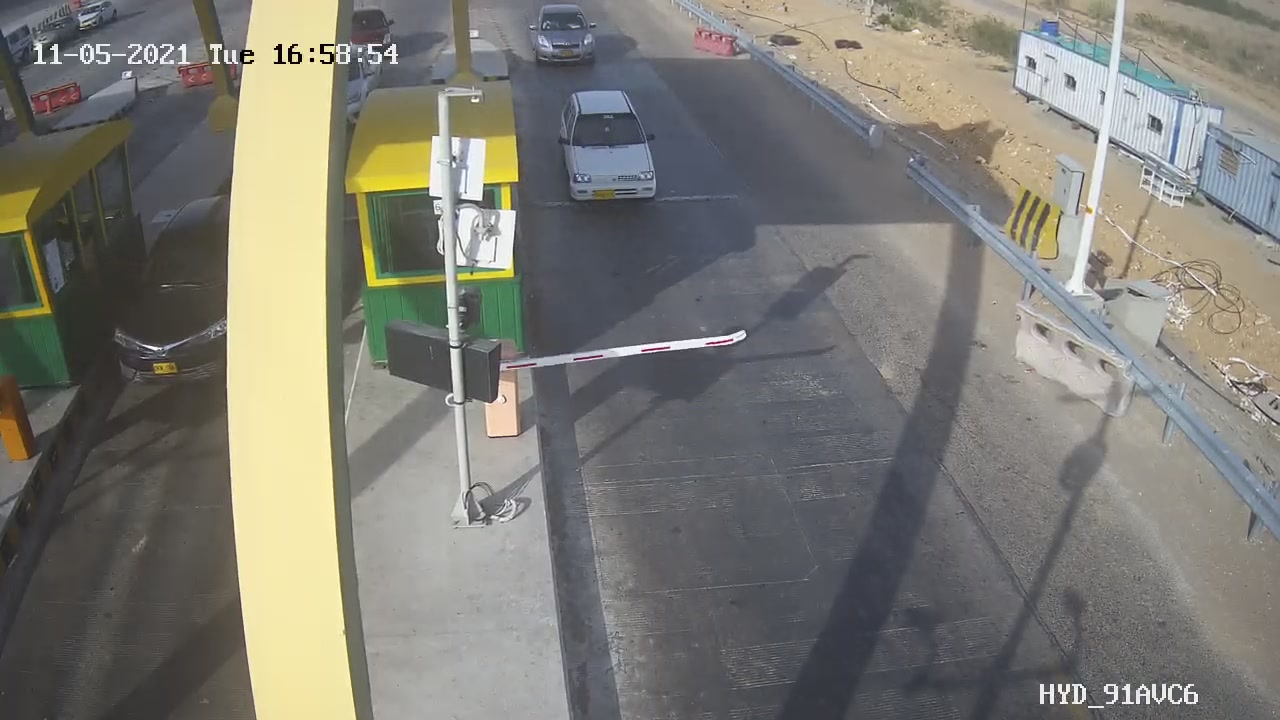F1: (535, 77, 676, 224)
